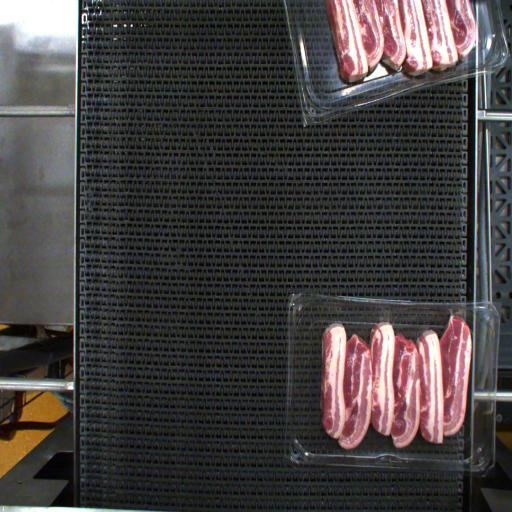packaging-error: (378, 308, 397, 328), (447, 305, 467, 319)
